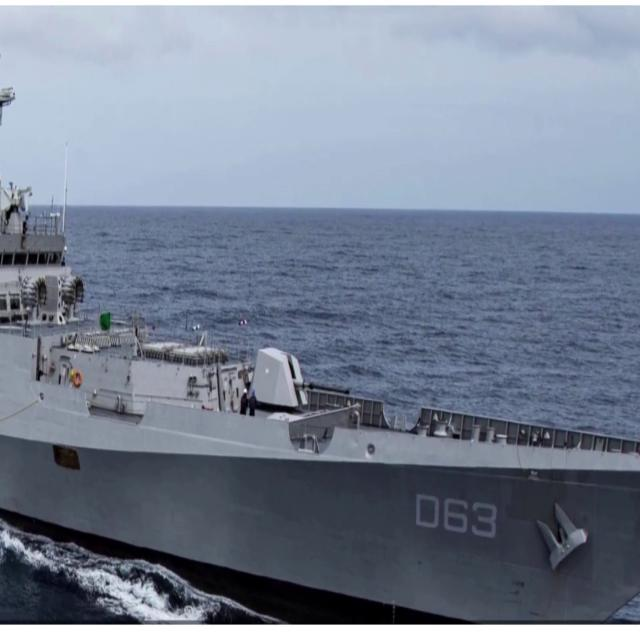OCR: (411, 488, 501, 548)
